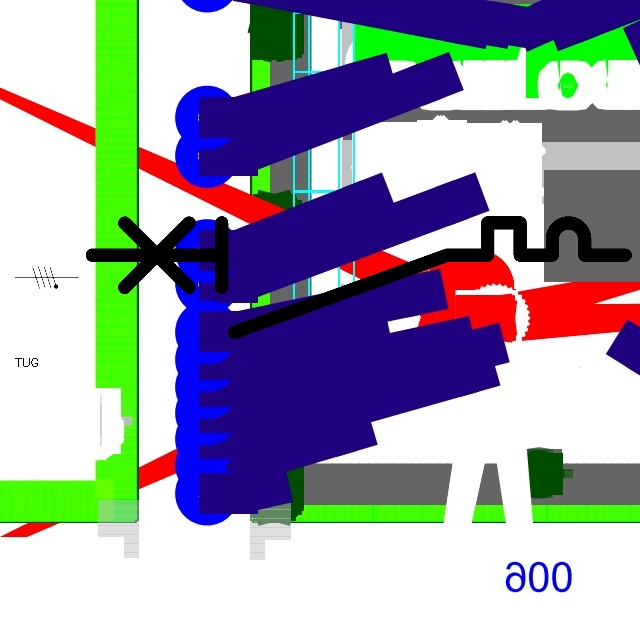interruptor_termomagnetico: (78, 209, 639, 346)
